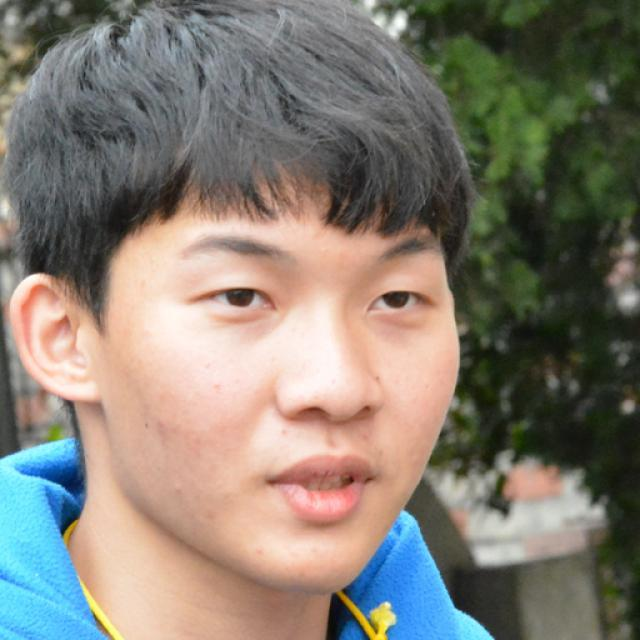neutral: (104, 155, 461, 597)
